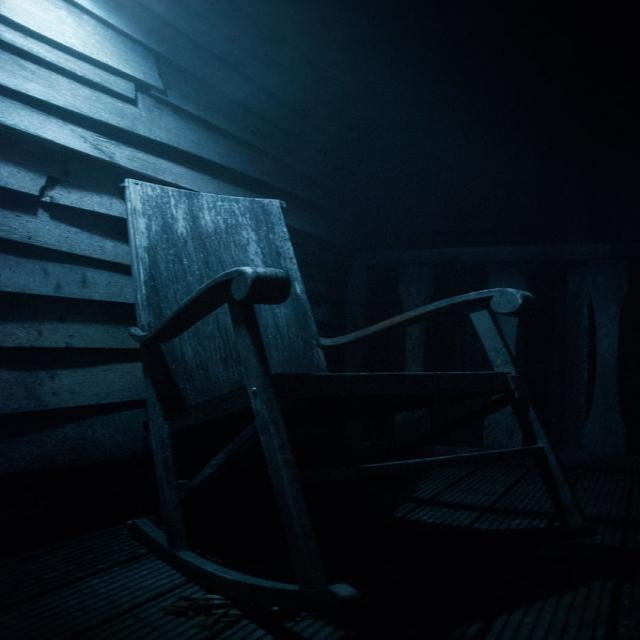chair: (81, 162, 604, 632)
